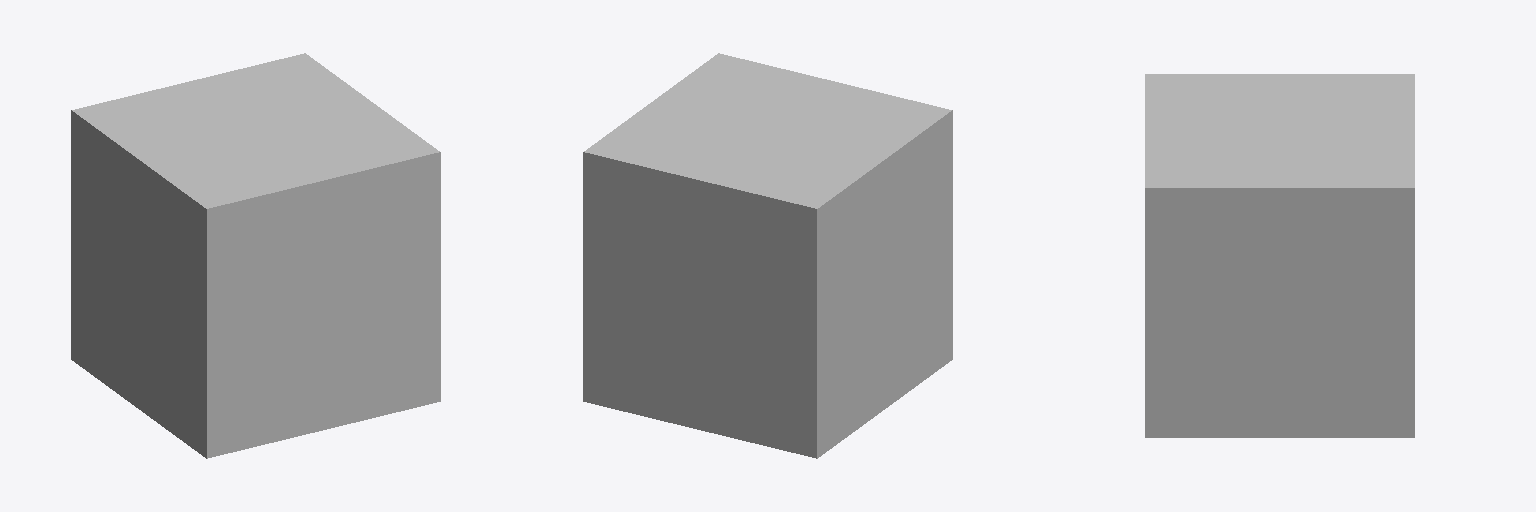
The model's file is SmallFloor-5.obj.
The picture shows the model from 3 angles: view 1: azimuth 30°, elevation 25°; view 2: azimuth 150°, elevation 25°; view 3: azimuth 270°, elevation 25°; orthographic projection.
Parts seen in each view (by area): view 1: SmallFloor-5; view 2: SmallFloor-5; view 3: SmallFloor-5.
Part boxes in pixels (x1,y1,x2,y2): SmallFloor-5: (71,53,440,458); SmallFloor-5: (583,53,952,458); SmallFloor-5: (1145,74,1414,437).
Bounding box in the file's own units: 5 × 5.1 × 5.